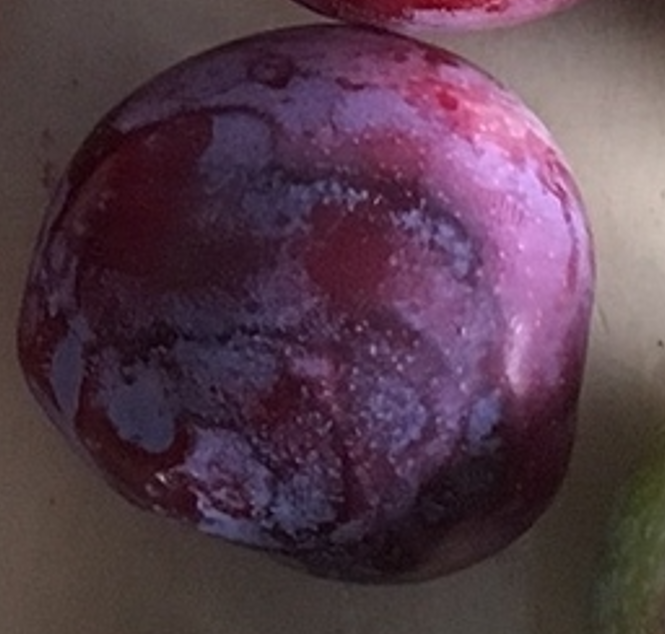plum_B: (17, 23, 598, 587)
